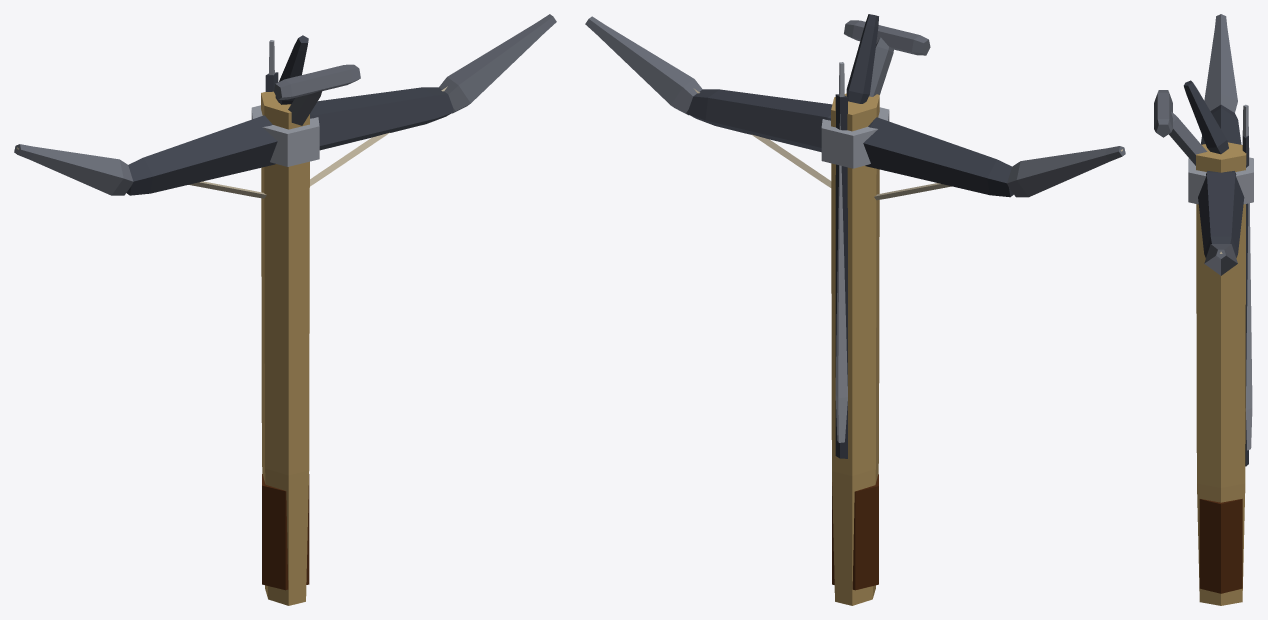
The model's file is wpn_crossbow_3.glb.
The picture shows the model from 3 angles, left to right: view 1: azimuth 30°, elevation 25°; view 2: azimuth 150°, elevation 25°; view 3: azimuth 270°, elevation 25°; orthographic projection. The views are drawn at different scales.
Visible parts, largest first — view 1: wpn_crossbow_3; view 2: wpn_crossbow_3; view 3: wpn_crossbow_3.
Part boxes in pixels (bbox=[...]): wpn_crossbow_3: bbox=[14, 14, 556, 605]; wpn_crossbow_3: bbox=[585, 14, 1125, 605]; wpn_crossbow_3: bbox=[1154, 14, 1253, 605].
Bounding box in the file's own units: 0.6853 × 0.6925 × 0.1212.
